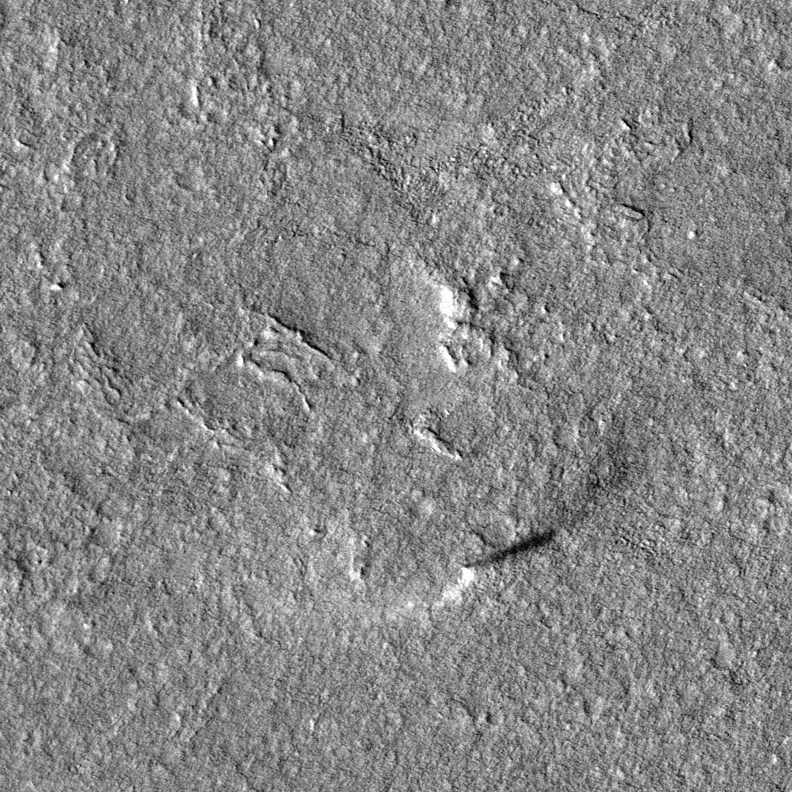dust_devil: (444, 523, 563, 605)
